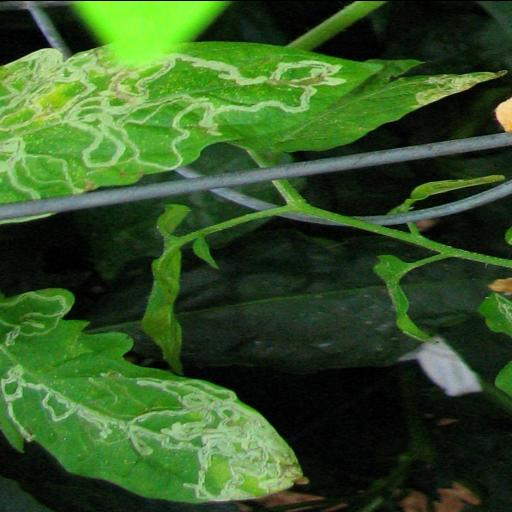disease_tomato: (0, 287, 305, 502), (0, 40, 384, 200)
